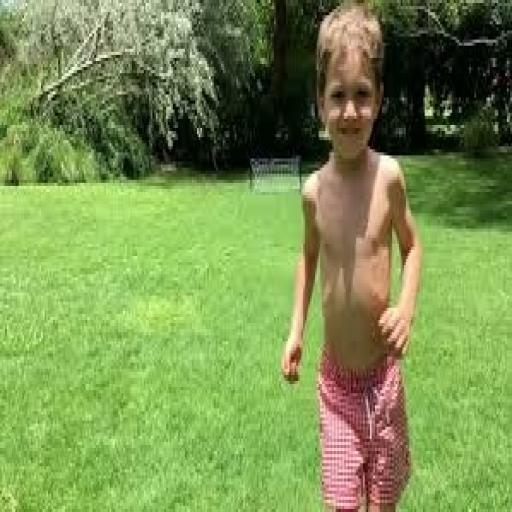running: (279, 3, 425, 509)
